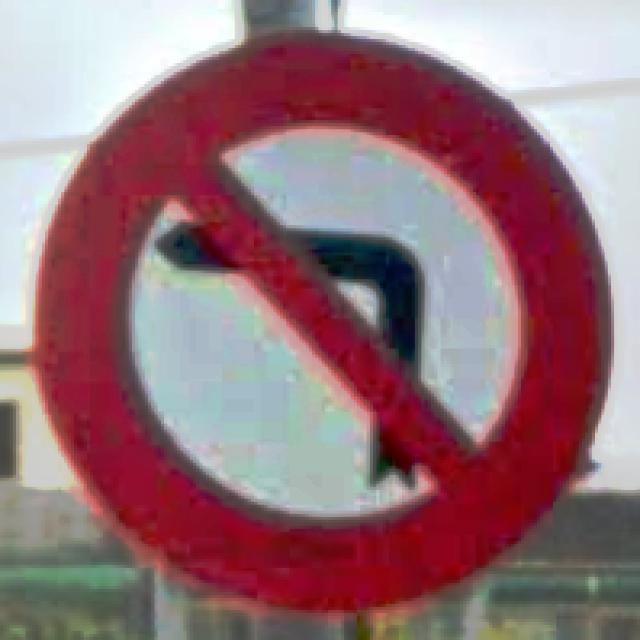noturnleft: (25, 24, 618, 616)
